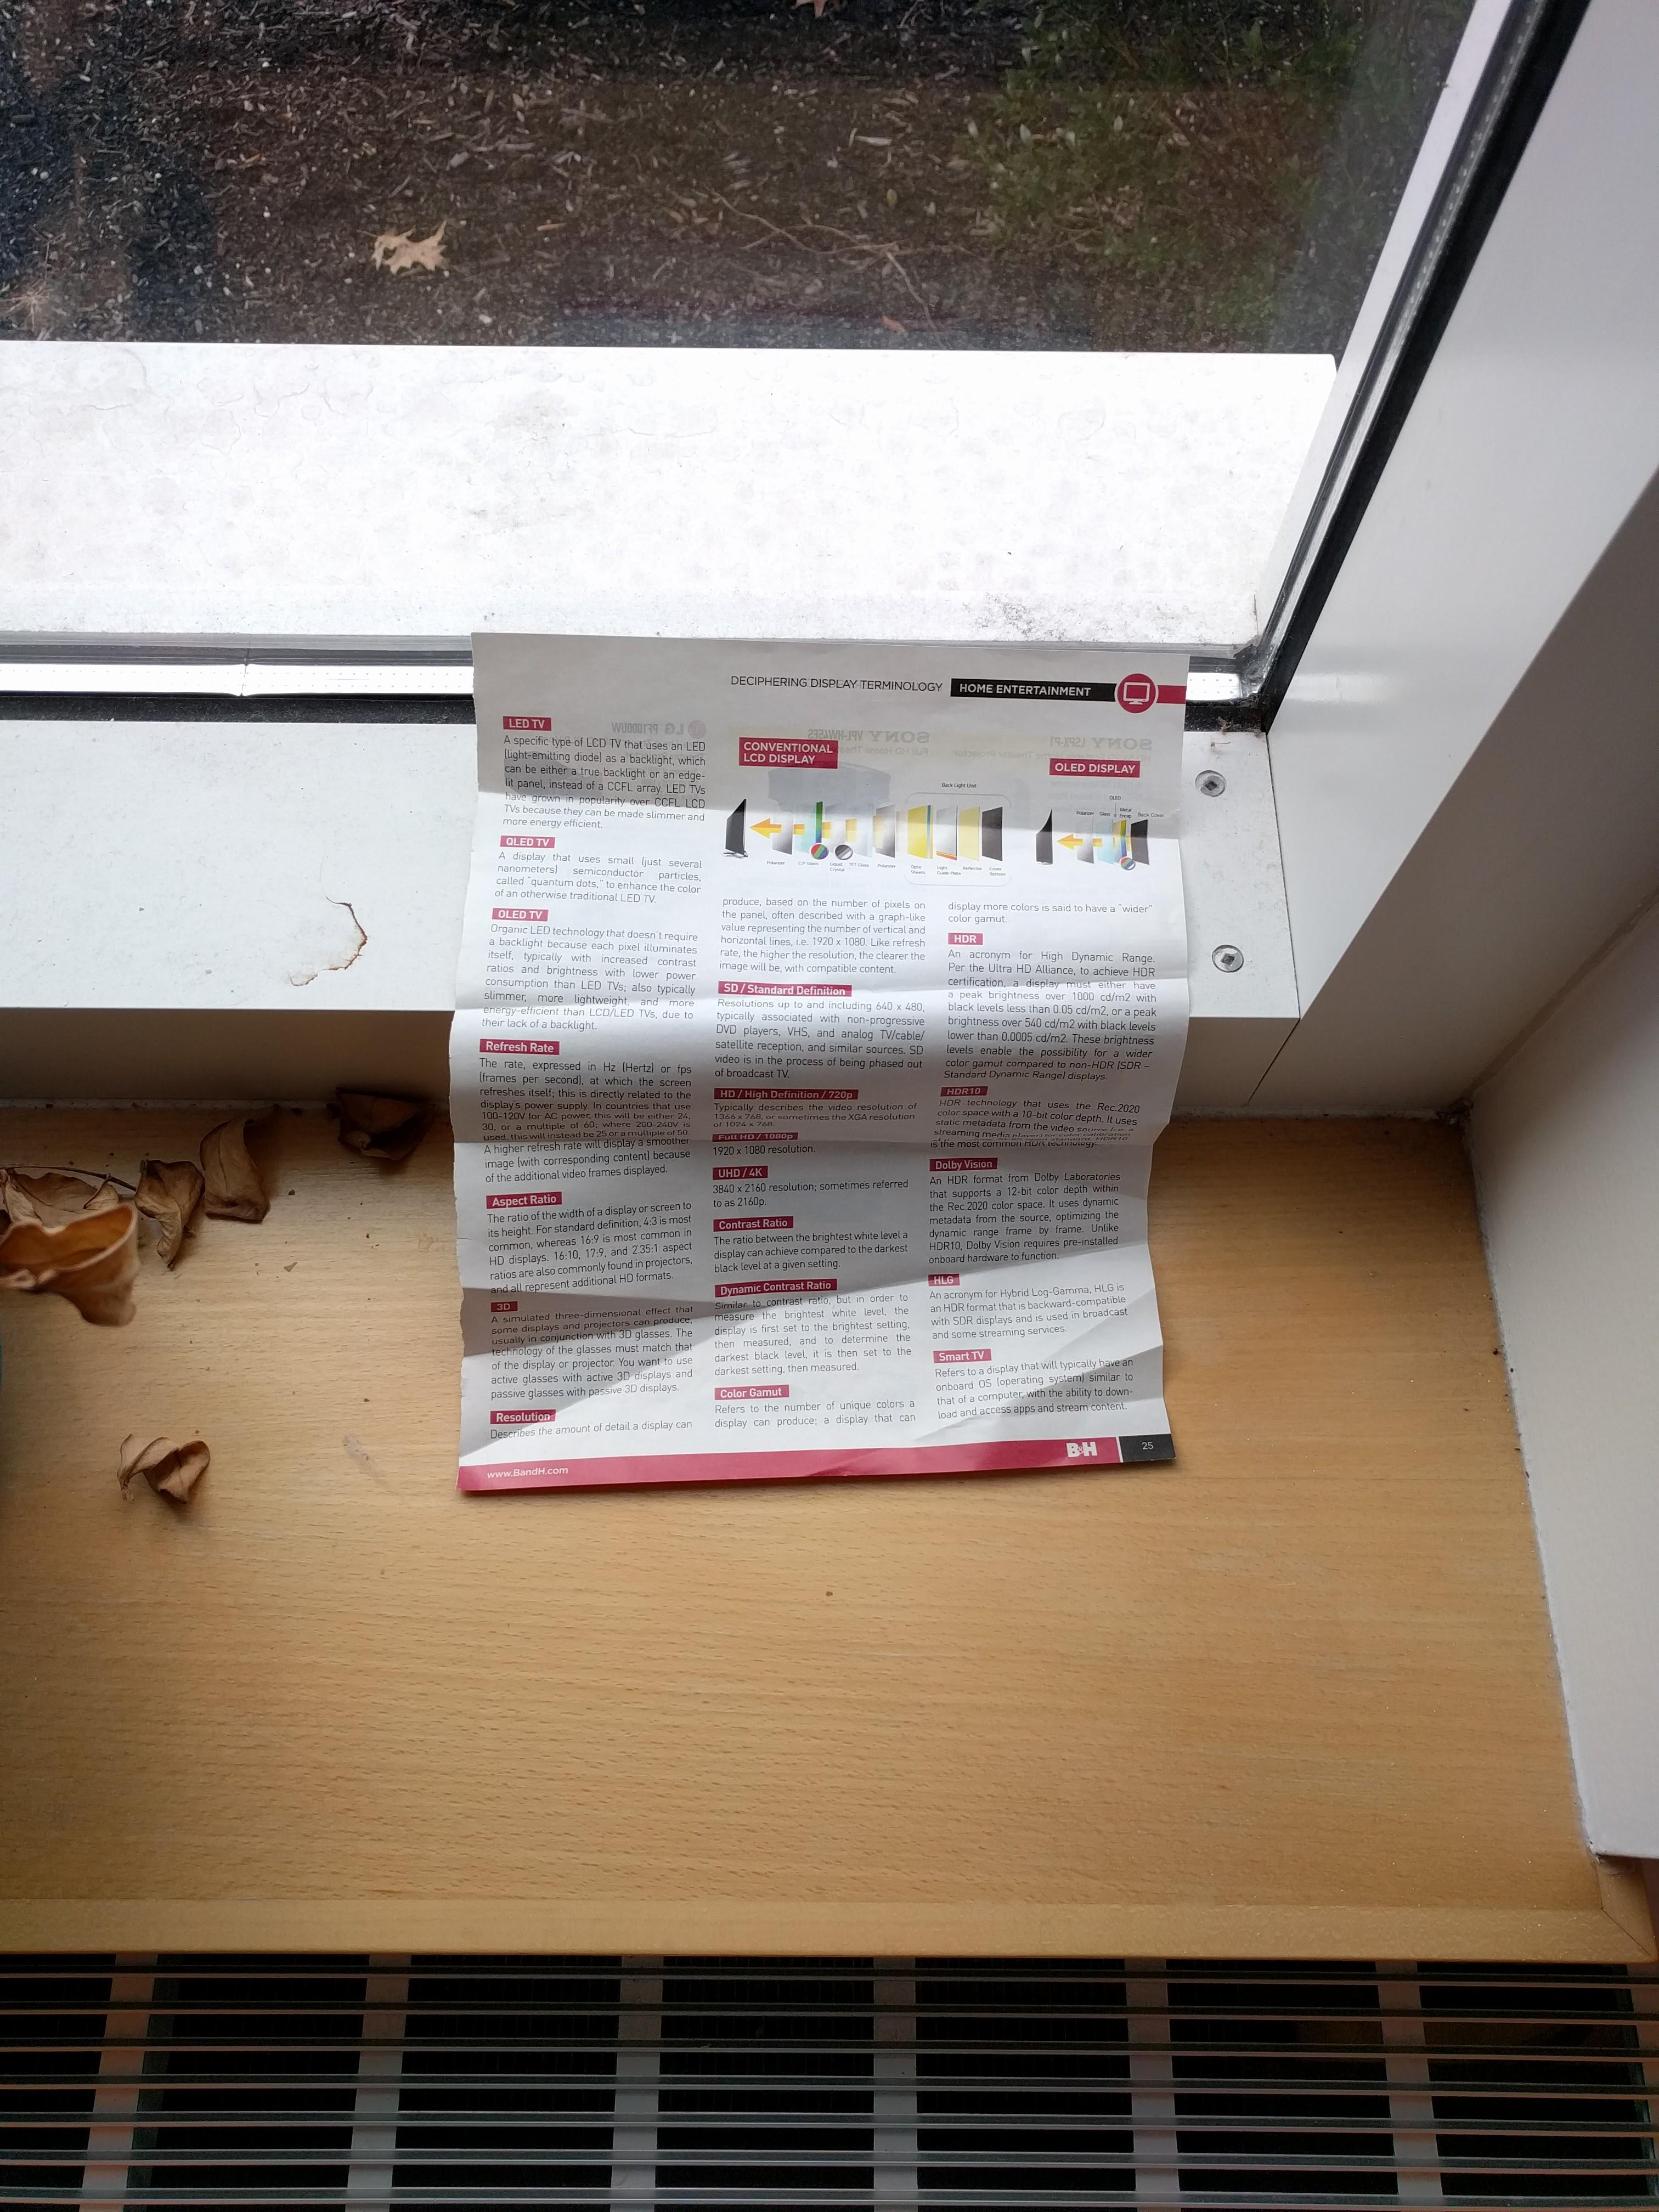paper: (310, 533, 1373, 1677)
